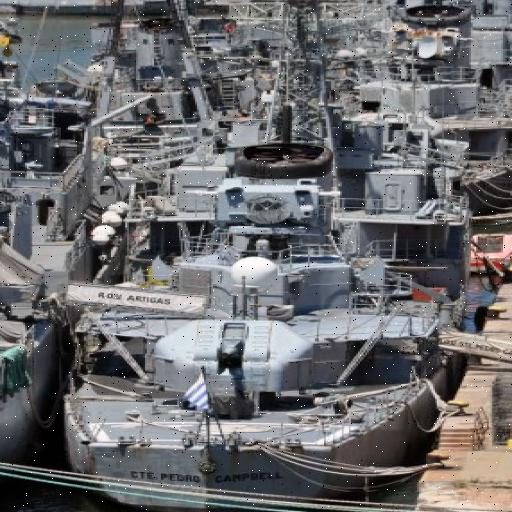Fragata: (28, 1, 488, 512)
